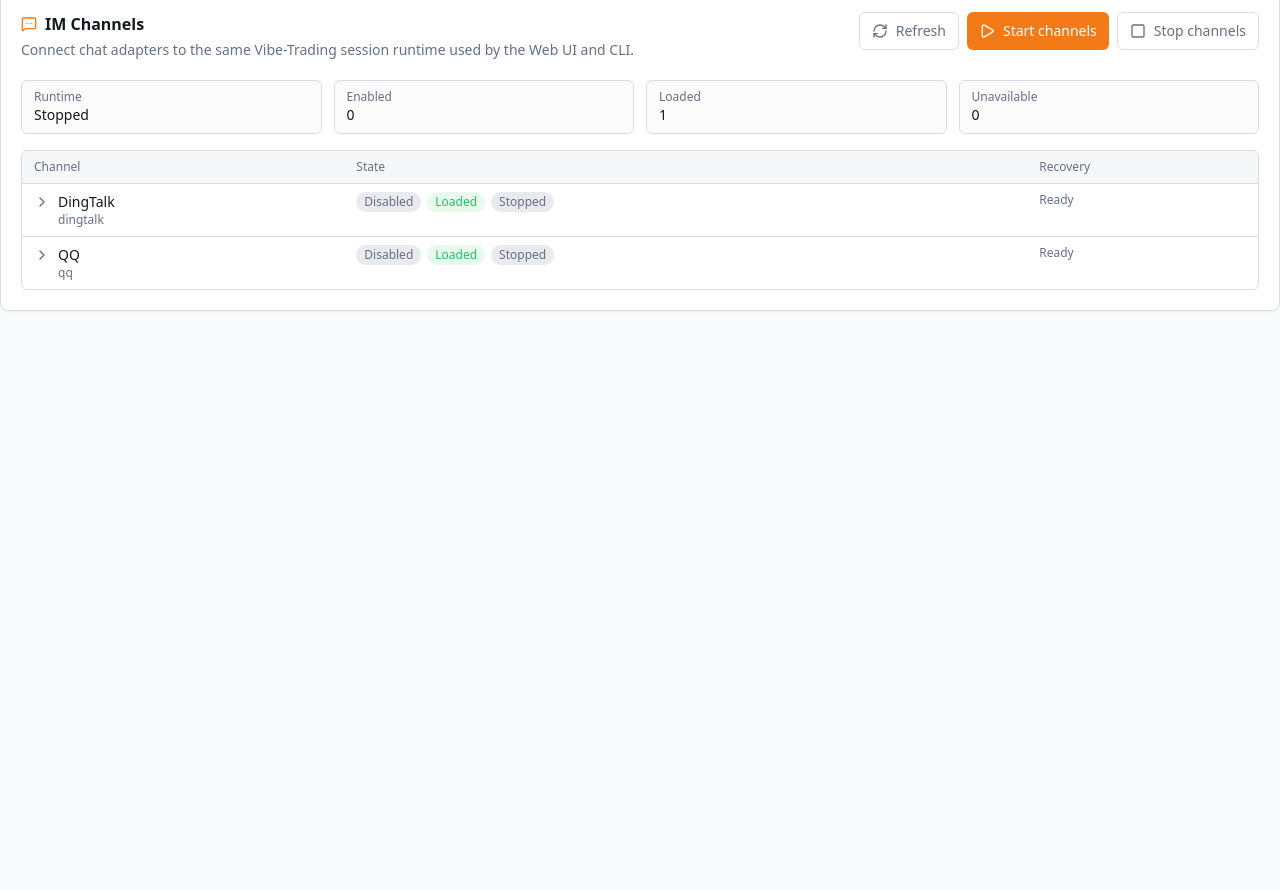
it: ChannelSettings config panel › toggles the QQ setup guide with its steps and external link
Expected: the heading "IM Channels" is shown, [45,12,144,36]
Click the button "QQ qq".
click(57, 263)  # box [34,245,80,281]
(page scrolled)
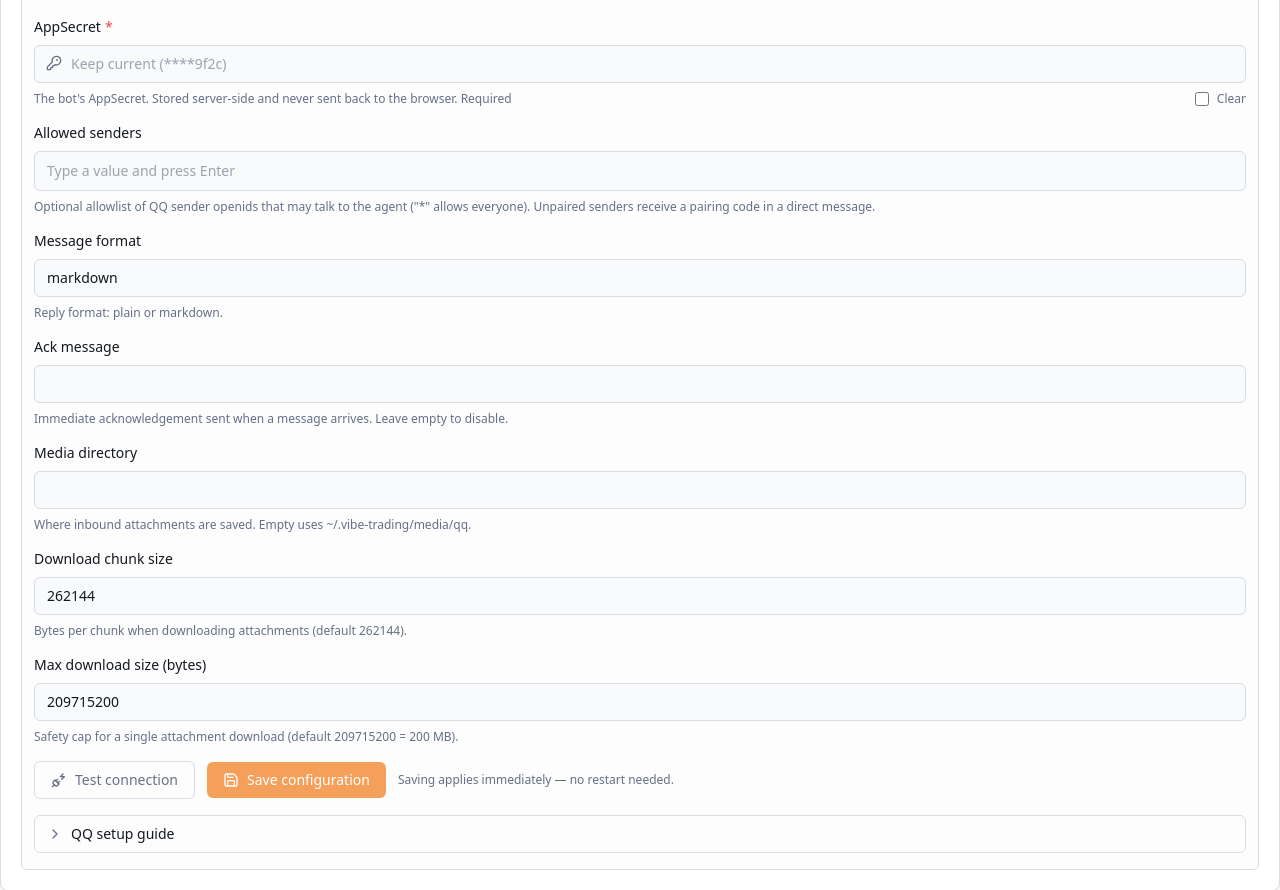
Expected: the text "Register on the QQ Open Platform" is not shown
Click the button "QQ setup guide".
click(123, 834)  # box [35,816,1245,852]
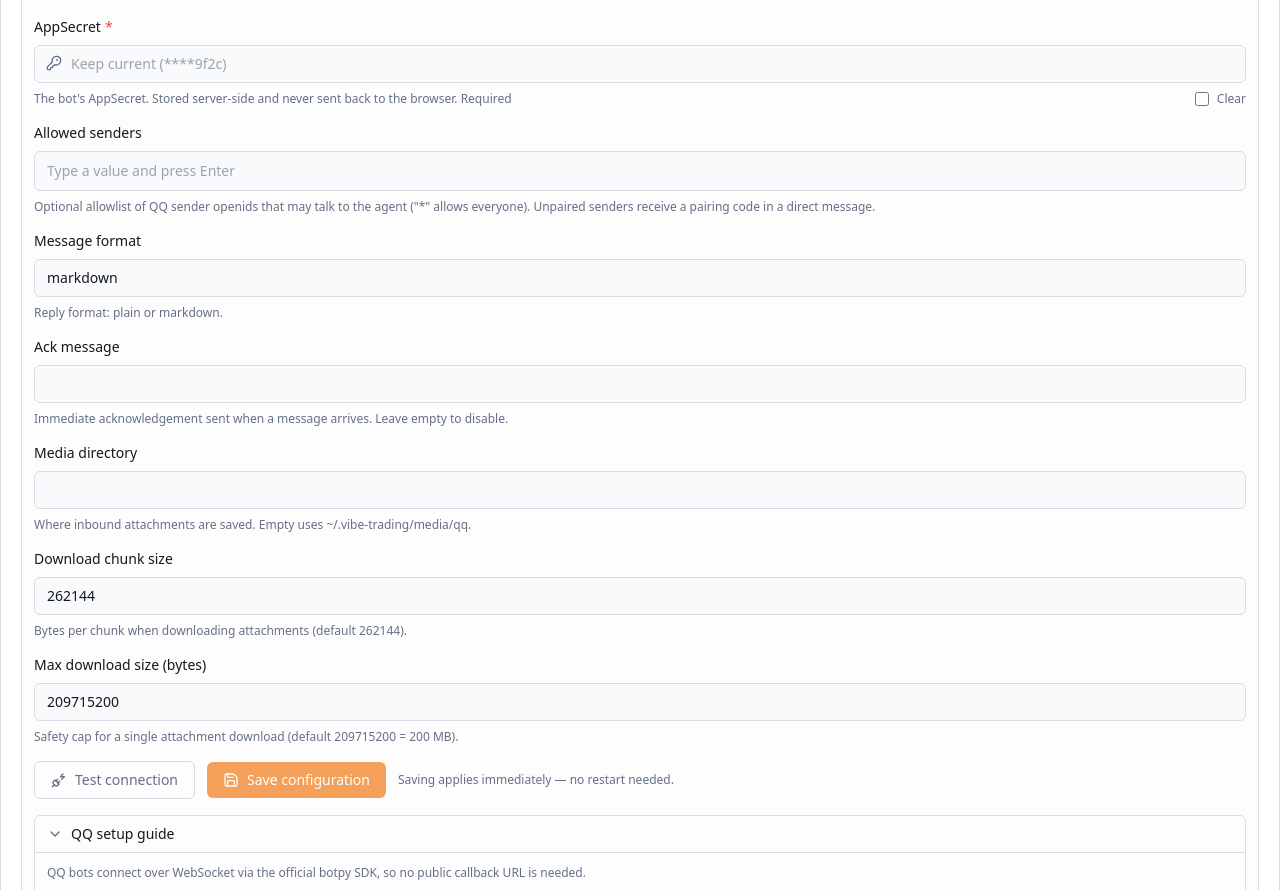
Expected: the button "QQ setup guide" is expanded
Expected: the text "no public callback URL is needed" is shown, [47,864,586,881]
Click the button "QQ setup guide".
click(123, 834)  # box [35,816,1245,852]
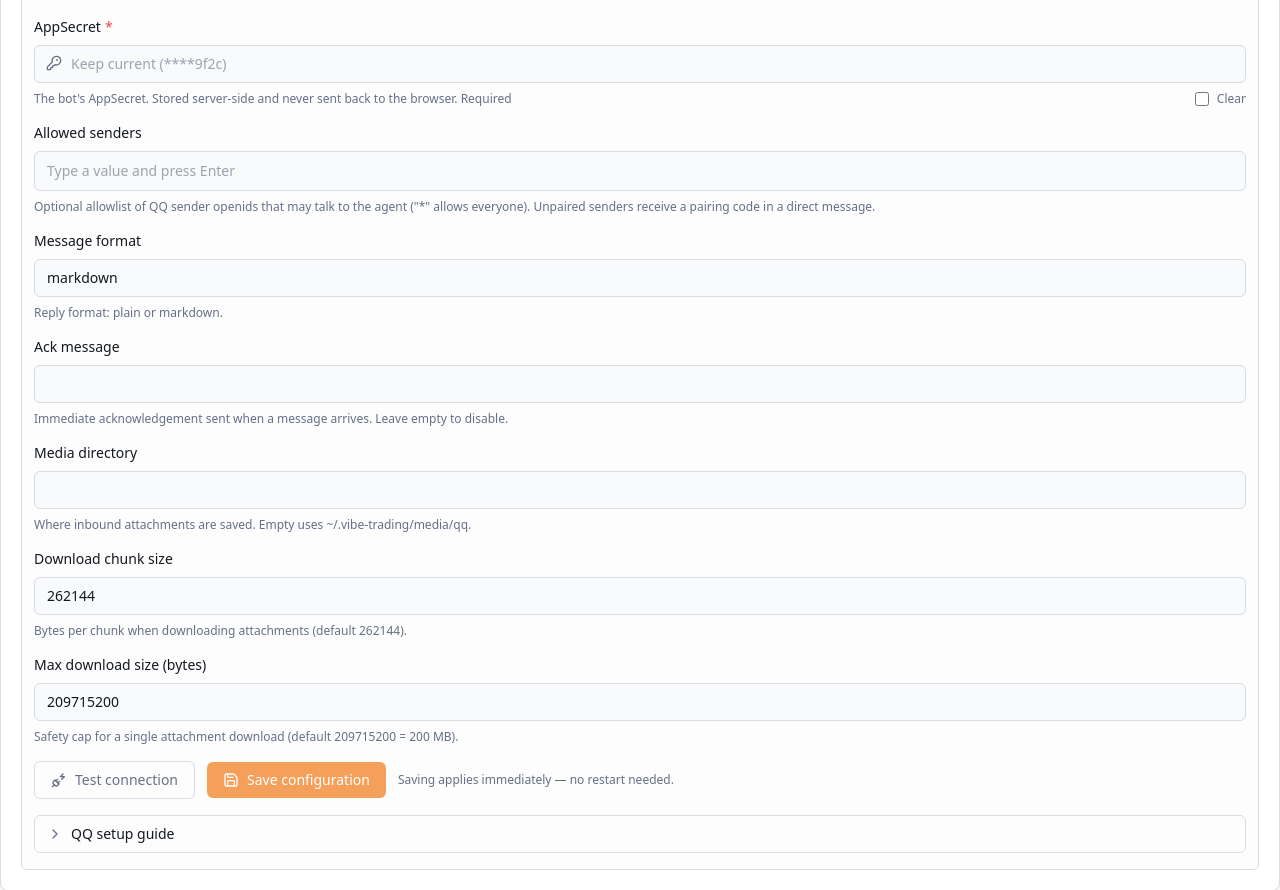
Expected: the button "QQ setup guide" is collapsed, [35,816,1245,852]
